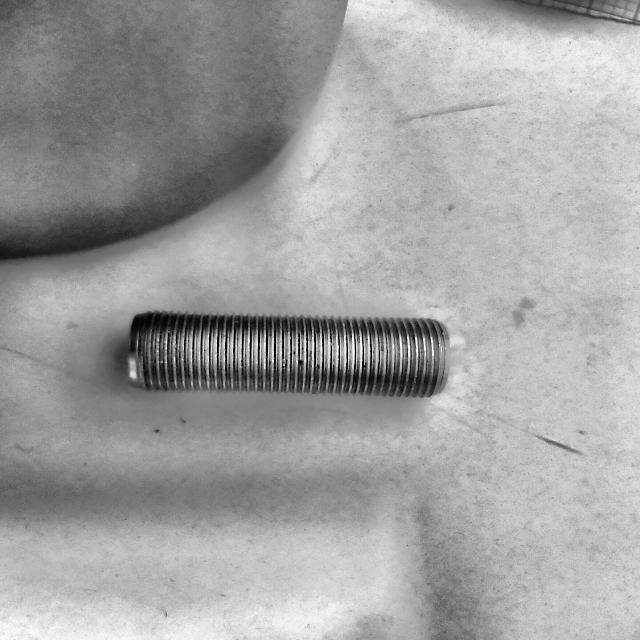Normal: (128, 310, 450, 400)
